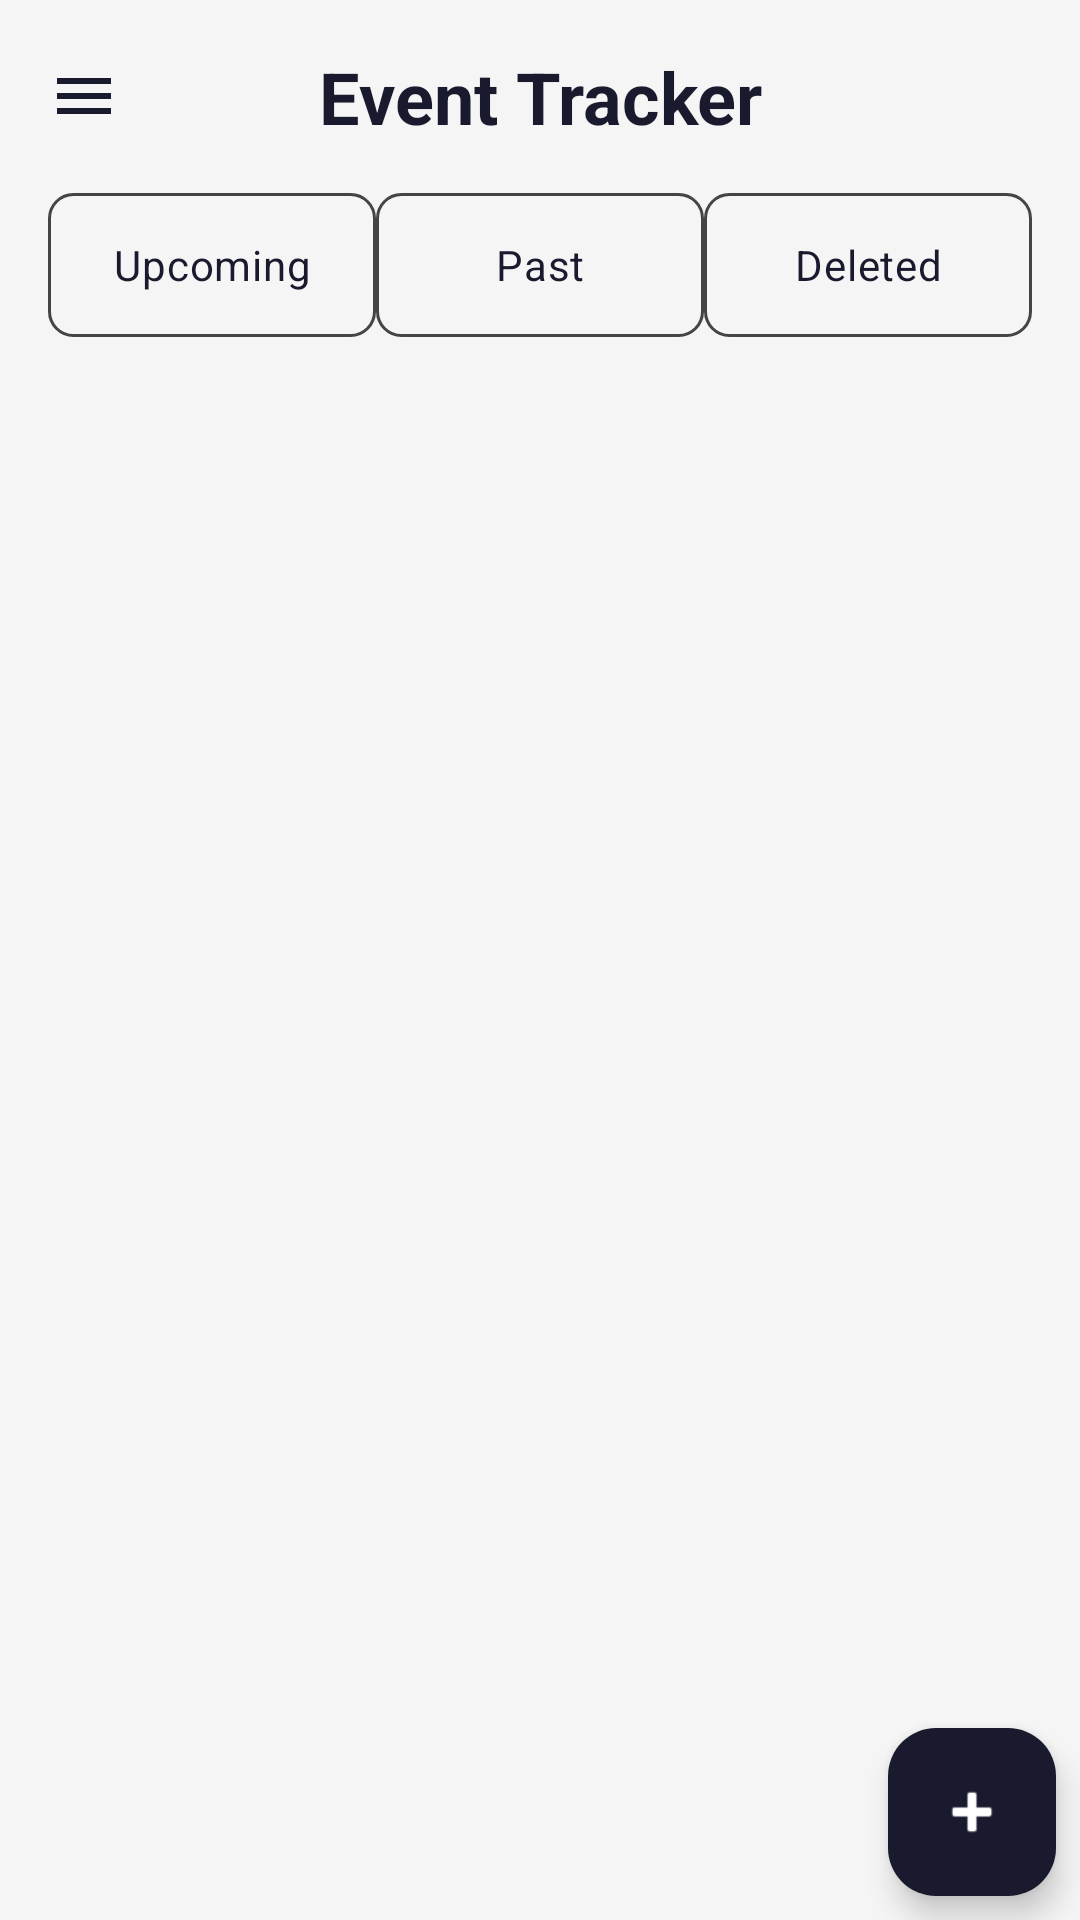

Screen size 1080x1920. Icon name, then its center in pixels as point (x, y):
Add Event: point (972, 1812)
Menu: point (84, 96)
